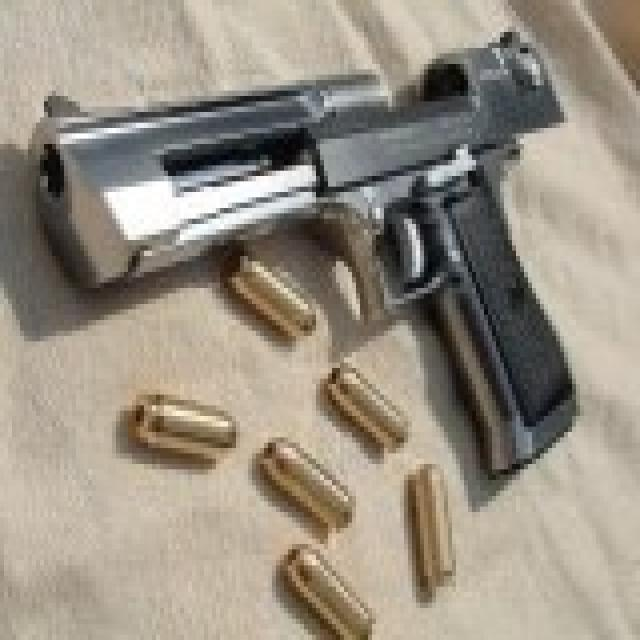Gun: (41, 29, 605, 485)
